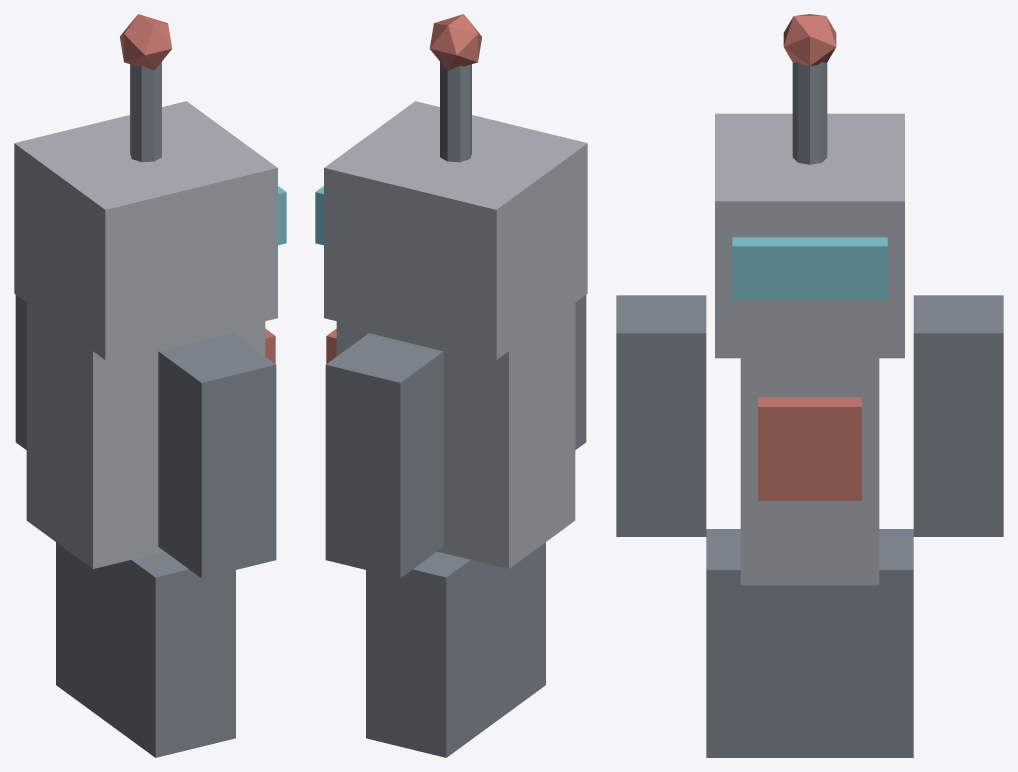
3 renders of one model, left to right at view 1: azimuth 30°, elevation 25°; view 2: azimuth 150°, elevation 25°; view 3: azimuth 270°, elevation 25°, orthographic. The views are drawn at different scales.
Parts seen in each view (by area): view 1: part0, part4, part7, part9, part8, part2, part3, part6, part1; view 2: part0, part4, part6, part8, part9, part2, part3, part7, part1; view 3: part0, part4, part6, part7, part8, part9, part5, part1, part2, part3.
Part boxes in pixels (x1,y1,x2,y2): part0: (14,101,277,360); part4: (26,295,265,568); part7: (158,333,276,578); part9: (105,551,235,757); part8: (56,542,105,720); part2: (130,62,161,162); part3: (120,14,172,70); part6: (15,295,26,449); part1: (278,186,286,245); part0: (324,101,587,360); part4: (336,303,575,568); part6: (325,333,443,578); part8: (366,551,496,757); part9: (496,542,545,720); part2: (440,62,471,162); part3: (429,14,481,70); part7: (575,295,586,449); part1: (315,186,323,245); part0: (715,113,904,358); part4: (740,350,879,585); part6: (913,295,1003,536); part7: (616,295,706,536); part8: (810,529,913,757); part9: (706,529,809,757); part5: (758,397,861,500); part1: (732,237,887,299); part2: (792,62,827,164); part3: (783,14,836,65).
Size of the model in its own units: 1.33 by 4.6 by 2.24.
